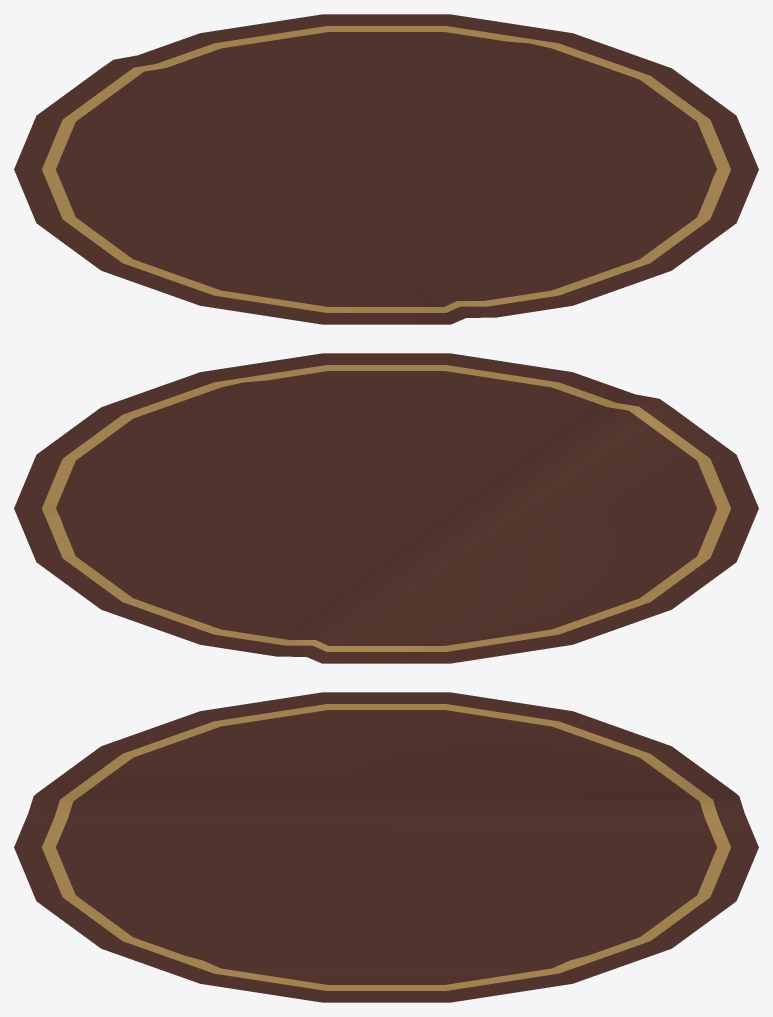
The model's file is Carpet_Round.glb.
The picture shows the model from 3 angles, top to bottom: view 1: azimuth 30°, elevation 25°; view 2: azimuth 150°, elevation 25°; view 3: azimuth 270°, elevation 25°; orthographic projection.
Parts seen in each view (by area): view 1: DarkRed, LightOrange; view 2: DarkRed, LightOrange; view 3: DarkRed, LightOrange.
Part boxes in pixels (x1=…): DarkRed: x1=14, y1=14, x2=758, y2=324; LightOrange: x1=42, y1=26, x2=730, y2=312; DarkRed: x1=14, y1=353, x2=758, y2=663; LightOrange: x1=42, y1=365, x2=730, y2=651; DarkRed: x1=14, y1=692, x2=758, y2=1002; LightOrange: x1=42, y1=704, x2=730, y2=990.
Bounding box in the file's own units: 2.49 × 0.0157 × 2.53.
